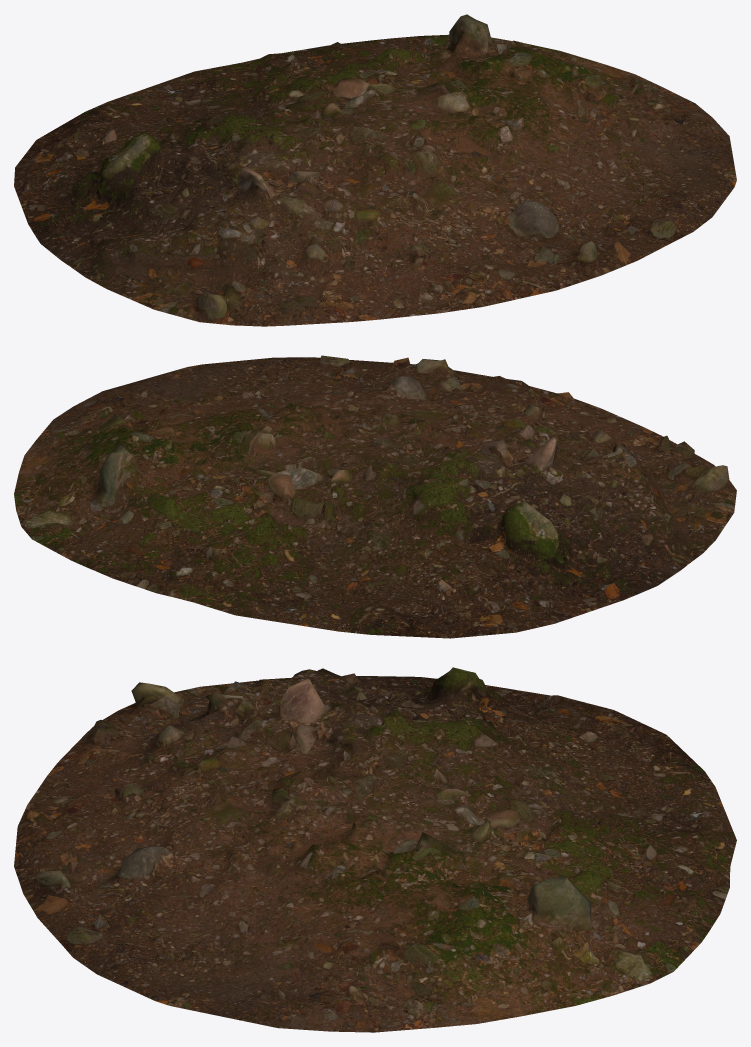
Rendered from forest_european_broadleaf_ground_rock_m_03_xlnmdass_mid.glb.
The picture shows the model from 3 angles, top to bottom: view 1: azimuth 30°, elevation 25°; view 2: azimuth 150°, elevation 25°; view 3: azimuth 270°, elevation 25°; orthographic projection. The views are drawn at different scales.
Visible parts, largest first — view 1: xlnmdass_LOD0_TIER2_000; view 2: xlnmdass_LOD0_TIER2_000; view 3: xlnmdass_LOD0_TIER2_000.
Part boxes in pixels (x1,y1,x2,y2): xlnmdass_LOD0_TIER2_000: (14,14,736,326); xlnmdass_LOD0_TIER2_000: (14,355,736,638); xlnmdass_LOD0_TIER2_000: (14,667,736,1032).
Bounding box in the file's own units: 1.58 × 0.1745 × 1.35.
Materials: 1 (1 with a texture image).
